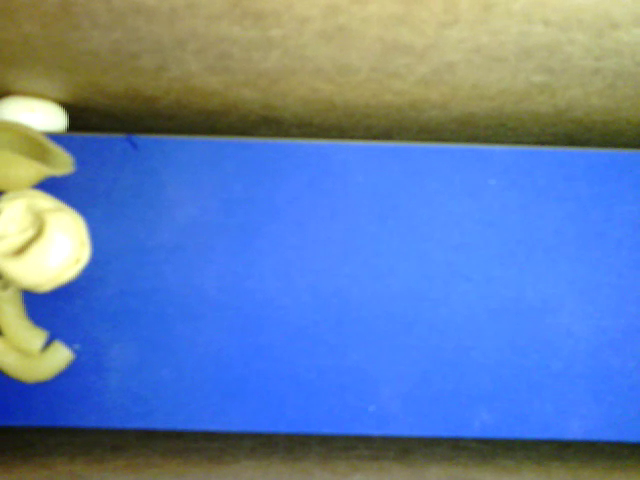elbow: (1, 280, 52, 354), (1, 336, 77, 383)
shell: (1, 118, 78, 192)
tortellini: (1, 188, 94, 292)
